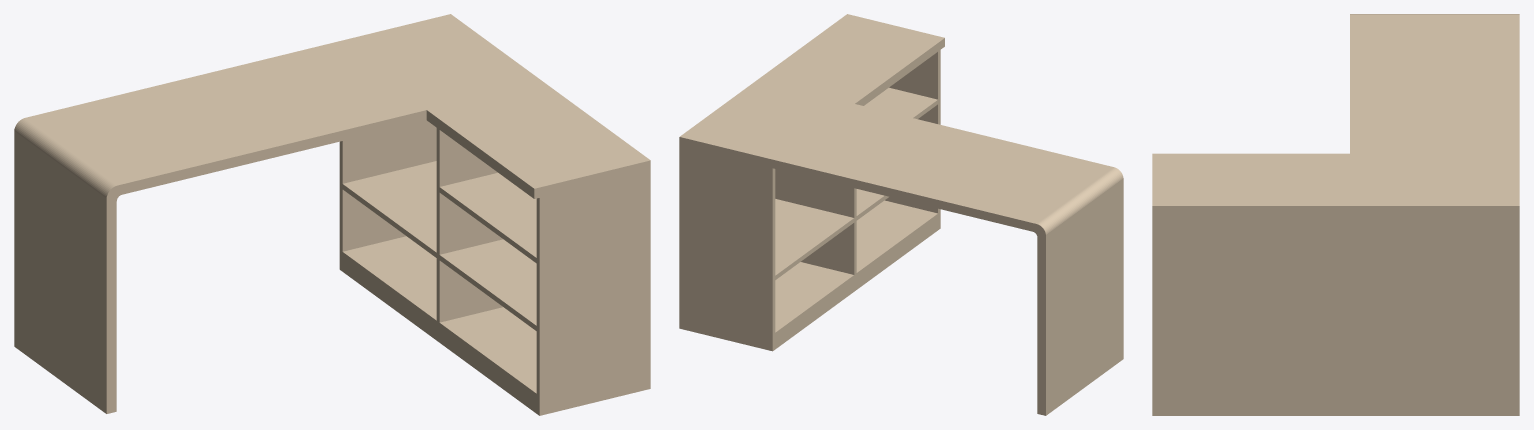
Rendered from test-bambang-0.glb.
3 views of the same model, side by side, from view 1: azimuth 30°, elevation 25°; view 2: azimuth 150°, elevation 25°; view 3: azimuth 270°, elevation 25° (orthographic). The views are drawn at different scales.
Parts seen in each view (by area): view 1: imagetostl_mesh54, imagetostl_mesh17, imagetostl_mesh4, imagetostl_mesh55, imagetostl_mesh29, imagetostl_mesh11, imagetostl_mesh96, imagetostl_mesh108, imagetostl_mesh114, imagetostl_mesh102, imagetostl_mesh35, imagetostl_mesh50 (+11 smaller); view 2: imagetostl_mesh54, imagetostl_mesh27, imagetostl_mesh4, imagetostl_mesh55, imagetostl_mesh9, imagetostl_mesh96, imagetostl_mesh114, imagetostl_mesh35, imagetostl_mesh37, imagetostl_mesh83, imagetostl_mesh15, imagetostl_mesh36 (+9 smaller); view 3: imagetostl_mesh77, imagetostl_mesh54, imagetostl_mesh4, imagetostl_mesh87, imagetostl_mesh1, imagetostl_mesh16, imagetostl_mesh28.
Part boxes in pixels (x1=…): imagetostl_mesh54: x1=25, y1=42, x2=425, y2=185; imagetostl_mesh17: x1=539, y1=171, x2=650, y2=415; imagetostl_mesh4: x1=335, y1=14, x2=650, y2=188; imagetostl_mesh55: x1=14, y1=137, x2=106, y2=413; imagetostl_mesh29: x1=342, y1=120, x2=436, y2=251; imagetostl_mesh11: x1=439, y1=130, x2=502, y2=322; imagetostl_mesh96: x1=343, y1=161, x2=436, y2=252; imagetostl_mesh108: x1=440, y1=239, x2=536, y2=325; imagetostl_mesh114: x1=440, y1=307, x2=536, y2=393; imagetostl_mesh102: x1=440, y1=173, x2=536, y2=257; imagetostl_mesh35: x1=343, y1=236, x2=436, y2=320; imagetostl_mesh50: x1=106, y1=110, x2=426, y2=203; imagetostl_mesh54: x1=777, y1=104, x2=1113, y2=223; imagetostl_mesh27: x1=679, y1=145, x2=772, y2=351; imagetostl_mesh4: x1=680, y1=14, x2=944, y2=160; imagetostl_mesh55: x1=1046, y1=183, x2=1123, y2=415; imagetostl_mesh9: x1=775, y1=169, x2=854, y2=274; imagetostl_mesh96: x1=775, y1=199, x2=853, y2=275; imagetostl_mesh114: x1=856, y1=200, x2=937, y2=272; imagetostl_mesh35: x1=775, y1=262, x2=853, y2=332; imagetostl_mesh37: x1=777, y1=161, x2=1045, y2=239; imagetostl_mesh83: x1=775, y1=218, x2=937, y2=349; imagetostl_mesh15: x1=885, y1=52, x2=937, y2=213; imagetostl_mesh36: x1=1037, y1=237, x2=1045, y2=415; imagetostl_mesh77: x1=1157, y1=215, x2=1514, y2=402; imagetostl_mesh54: x1=1350, y1=15, x2=1519, y2=153; imagetostl_mesh4: x1=1152, y1=153, x2=1519, y2=205; imagetostl_mesh87: x1=1157, y1=402, x2=1514, y2=415; imagetostl_mesh1: x1=1152, y1=206, x2=1519, y2=215; imagetostl_mesh16: x1=1152, y1=215, x2=1157, y2=415; imagetostl_mesh28: x1=1514, y1=215, x2=1519, y2=415.
Size of the model in its own units: 59.06 by 29.53 by 46.85.
